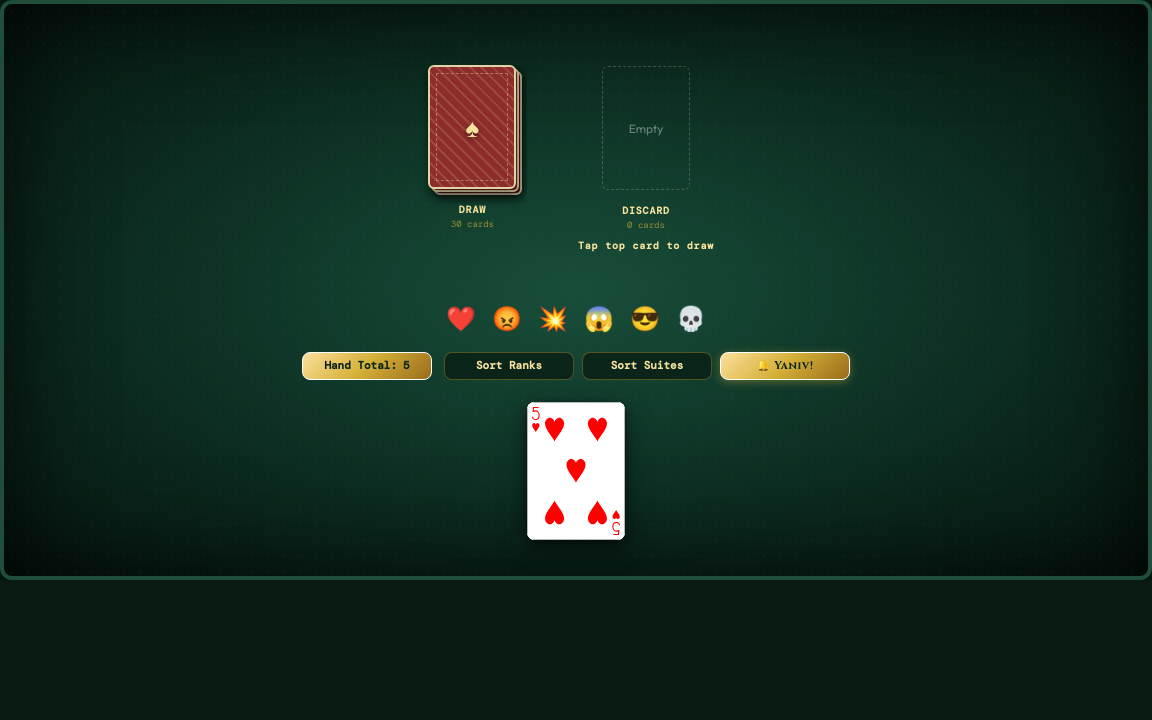
it: discard flies hand → discard pile and defers the server send until landing
Step 1. Click the element with class "hand-card" → (576, 471), box [527,402,625,540]
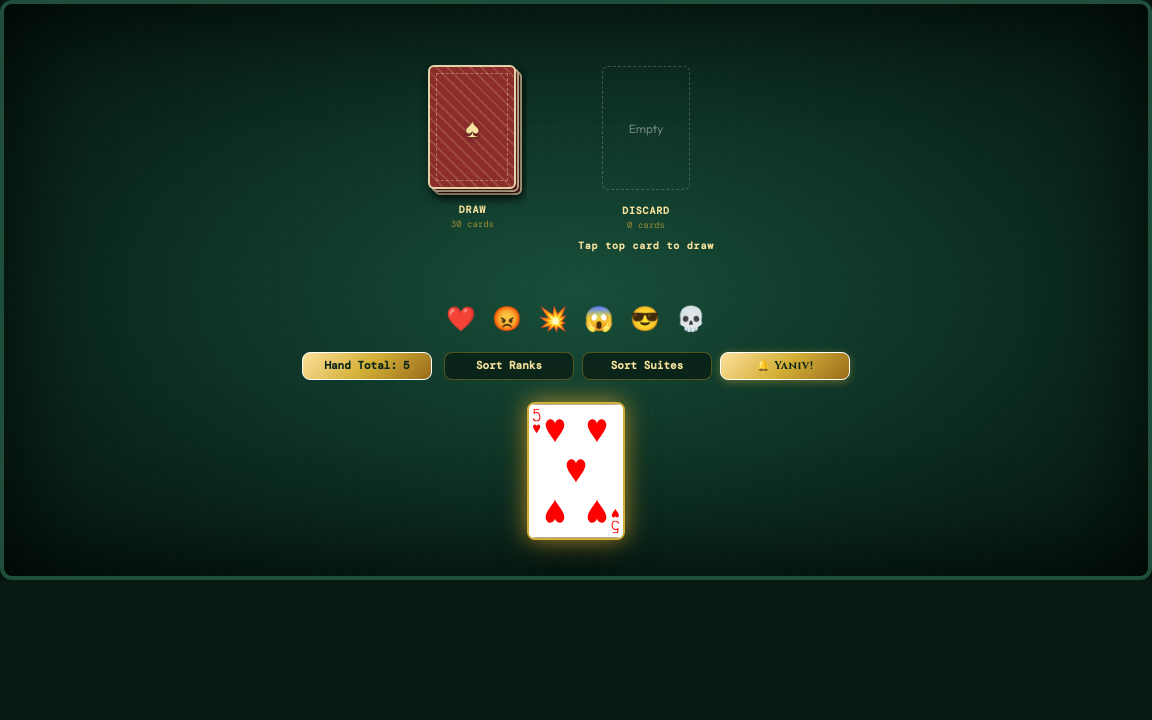
Step 2. Click the element with class "draw-pile-column" → (472, 166), box [418,64,526,268]
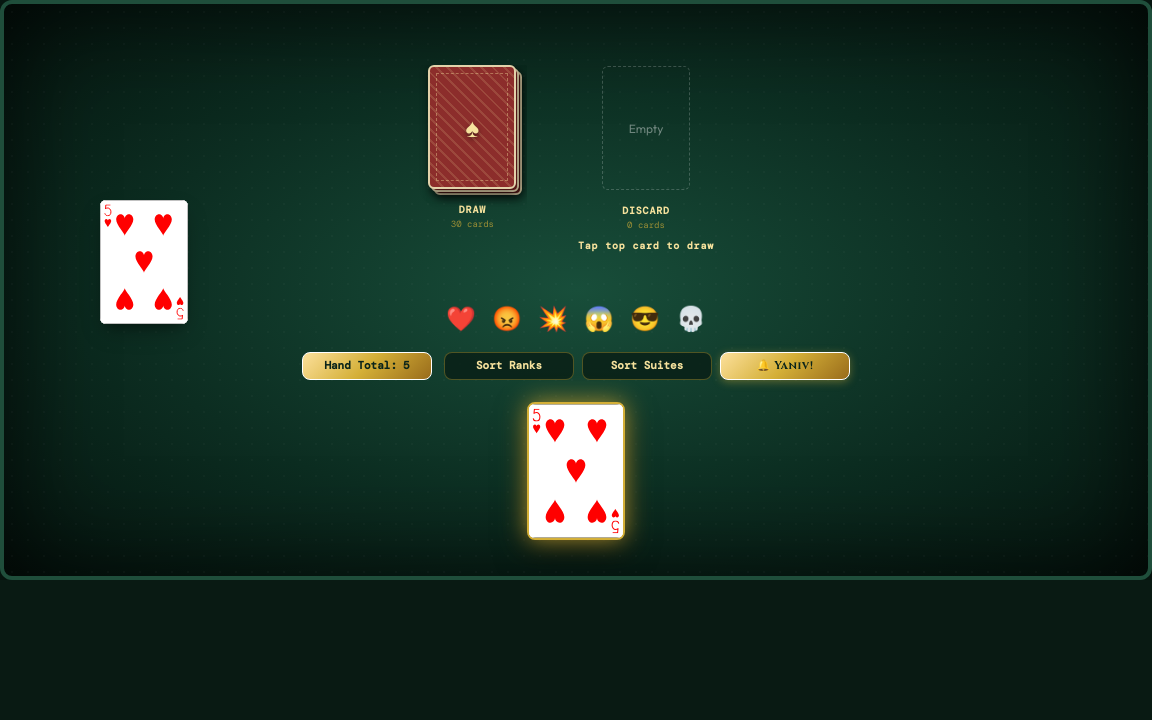
Expected: the element with test id "card-flight" is shown, [100,200,188,324]
